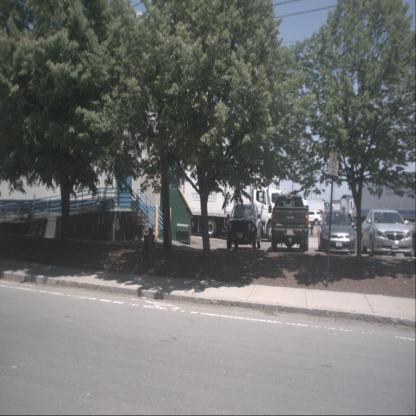cone: (316, 220, 320, 237)
